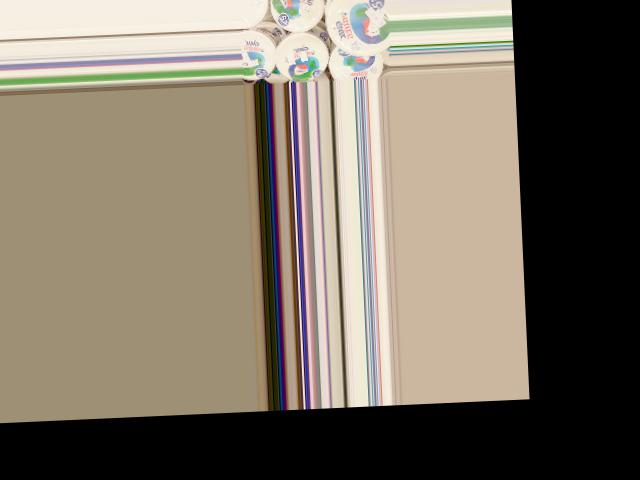cotage: (324, 44, 384, 81)
